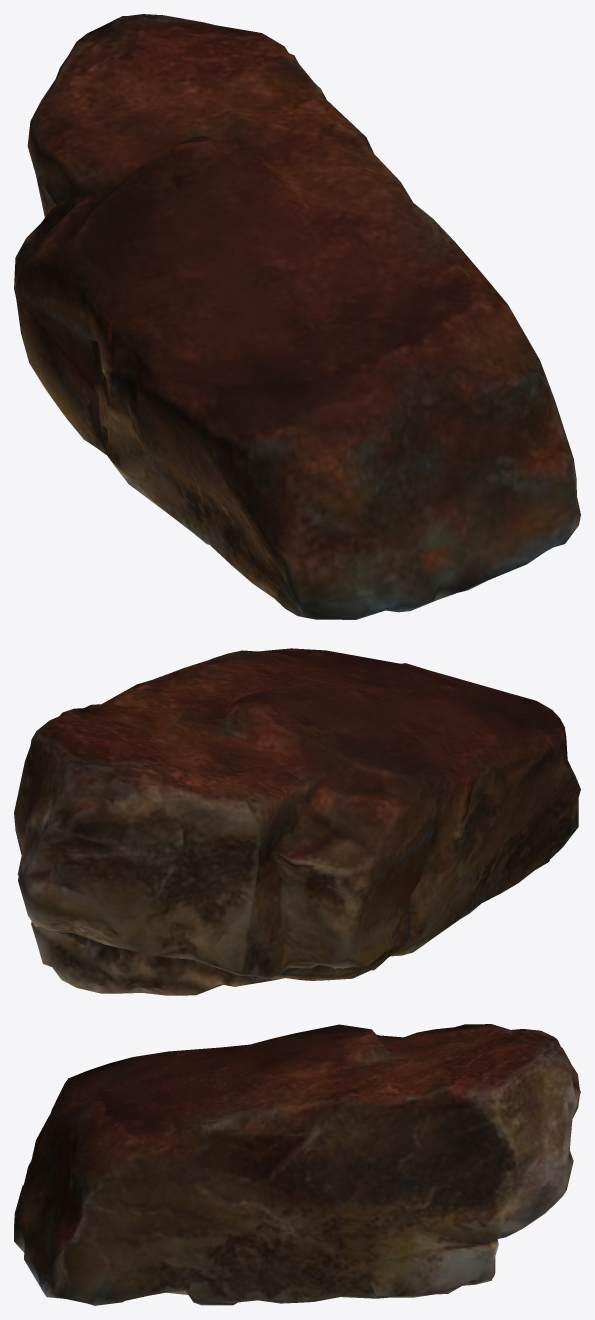
Rendered from rock_07.lod.glb.
3 views of the same model, one above another, from view 1: azimuth 30°, elevation 25°; view 2: azimuth 150°, elevation 25°; view 3: azimuth 270°, elevation 25° (orthographic). The views are drawn at different scales.
Parts seen in each view (by area): view 1: rock_07; view 2: rock_07; view 3: rock_07.
Part boxes in pixels (bbox=[...]): rock_07: bbox=[14, 14, 580, 619]; rock_07: bbox=[14, 648, 580, 995]; rock_07: bbox=[14, 1024, 580, 1305].
Size of the model in its own units: 0.1679 by 0.1434 by 0.3199.
1 material, 1 textured.
